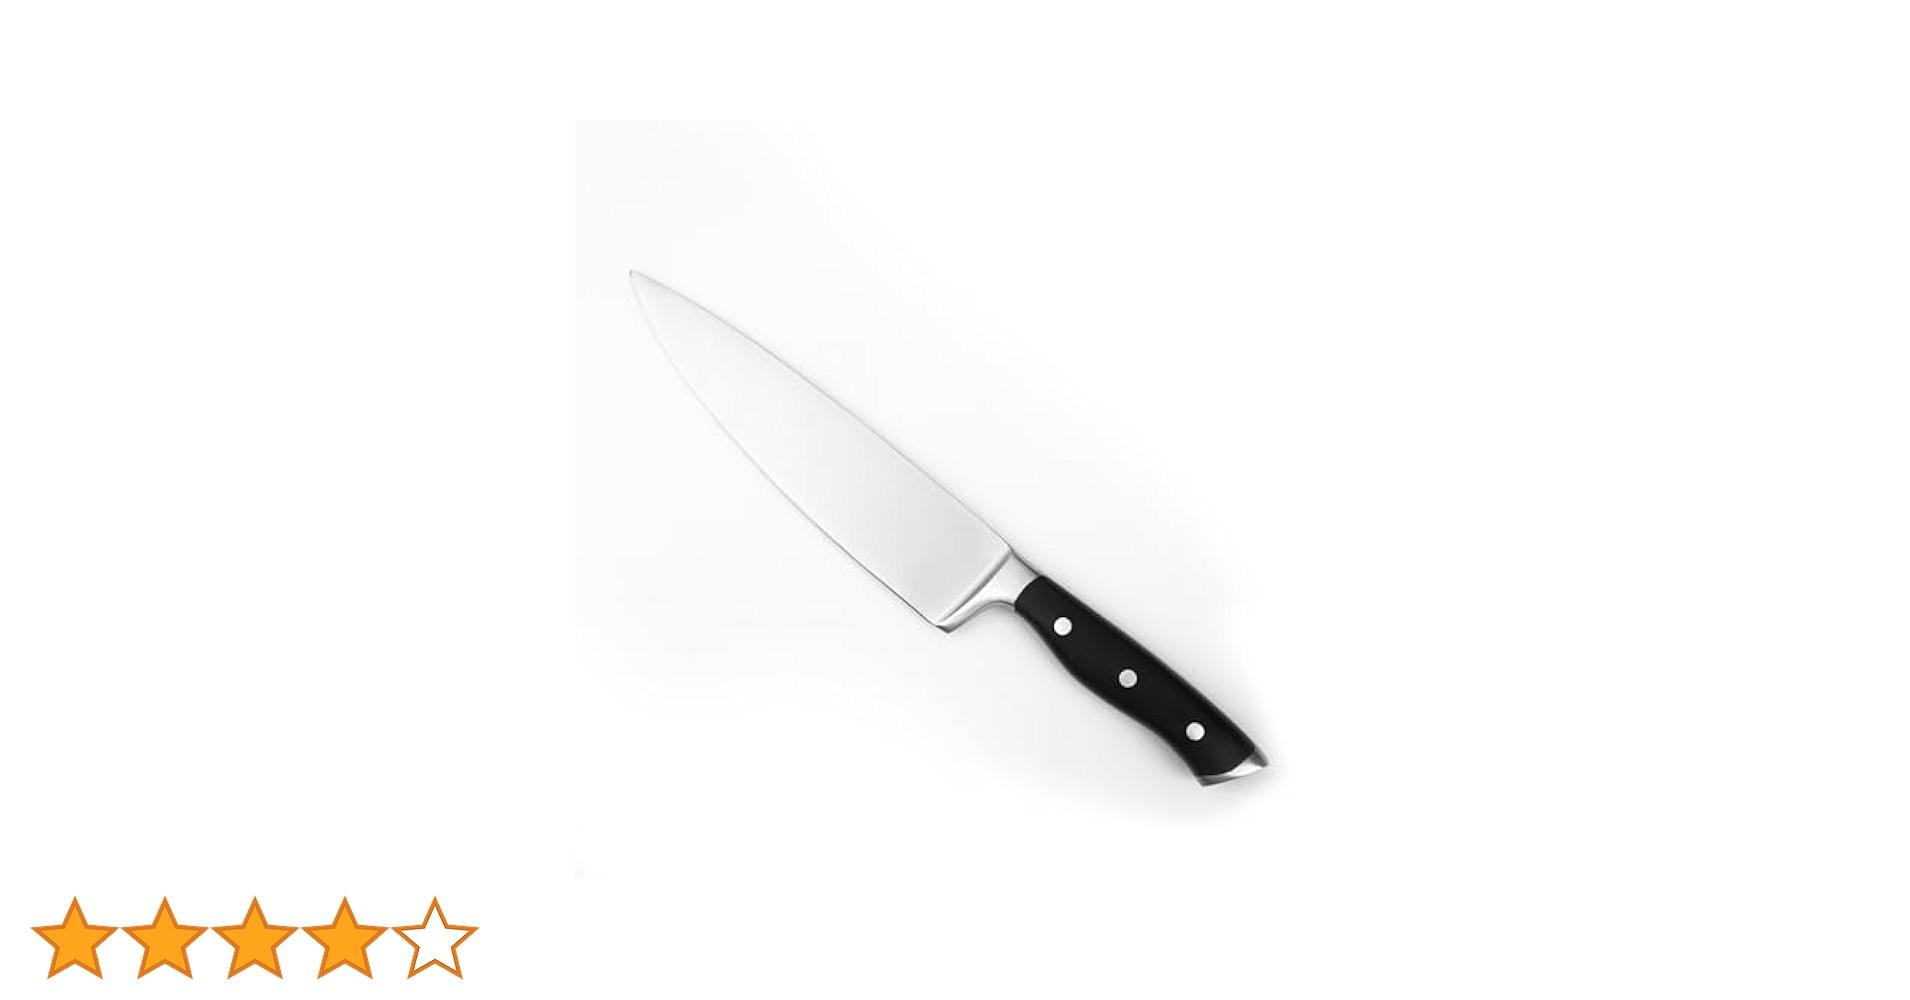Knife: (627, 266, 1270, 788)
